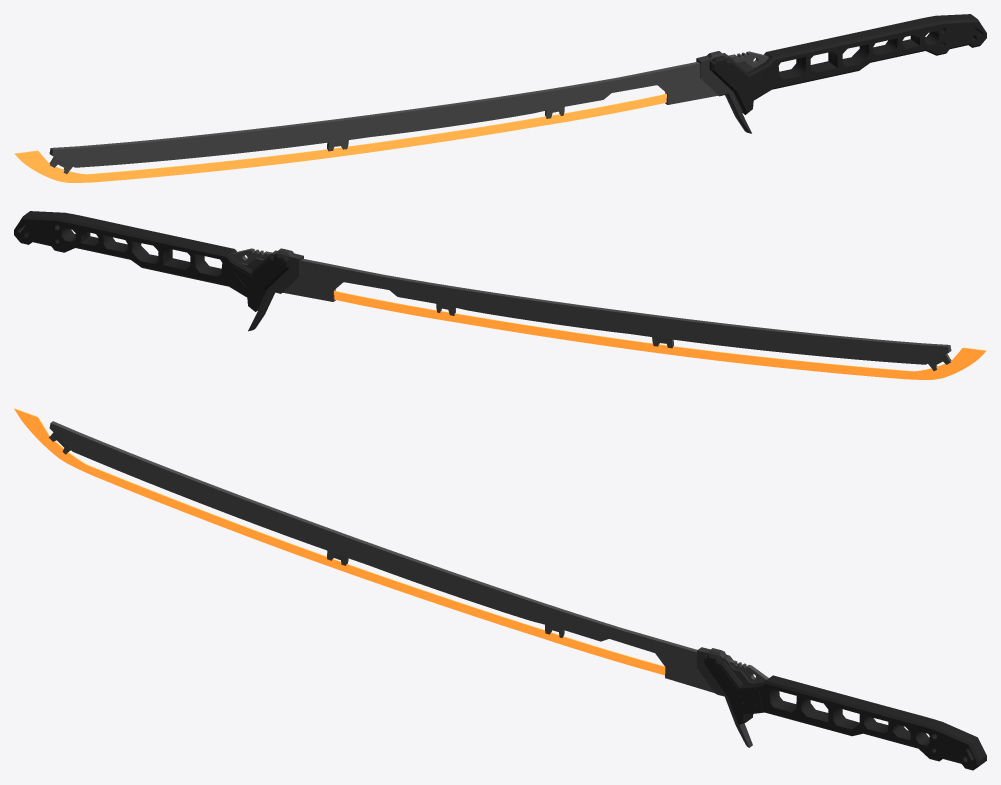
Rendered from Katana.glb.
The picture shows the model from 3 angles, top to bottom: view 1: azimuth 30°, elevation 25°; view 2: azimuth 150°, elevation 25°; view 3: azimuth 330°, elevation 25°; orthographic projection.
Parts seen in each view (by area): view 1: Plane.006, Plane, Cube.001, Cube; view 2: Plane.006, Plane, Cube.001, Cube; view 3: Plane.006, Plane, Cube.001, Cube.
Boxes of the visible parts, x1,y1,x2,y2 form: Plane.006: [49, 51, 768, 173]; Plane: [709, 14, 986, 114]; Cube.001: [14, 93, 666, 182]; Cube: [696, 51, 758, 133]; Plane.006: [232, 248, 951, 370]; Plane: [14, 211, 293, 311]; Cube.001: [334, 290, 986, 379]; Cube: [241, 248, 303, 331]; Plane.006: [49, 421, 768, 692]; Plane: [704, 651, 986, 770]; Cube.001: [14, 408, 665, 675]; Cube: [697, 647, 755, 747].
Bounding box in the file's own units: 3.59 × 0.5619 × 0.064.
